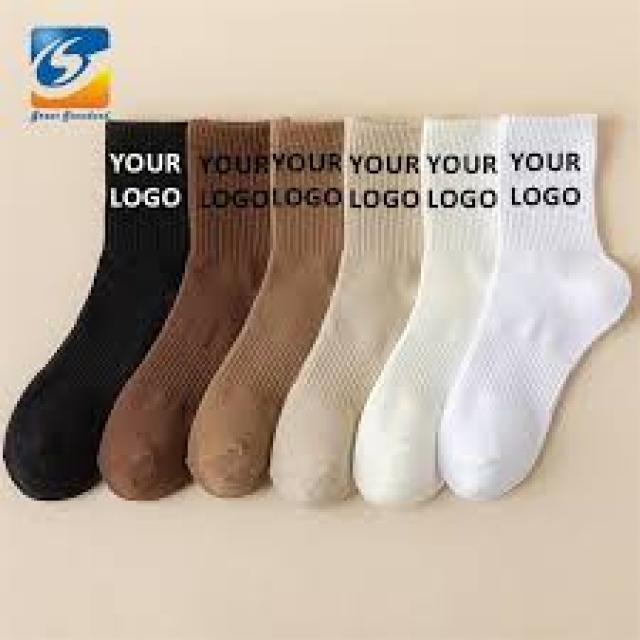sock: (435, 111, 632, 501), (0, 117, 188, 500), (94, 117, 273, 500), (350, 114, 503, 506)
